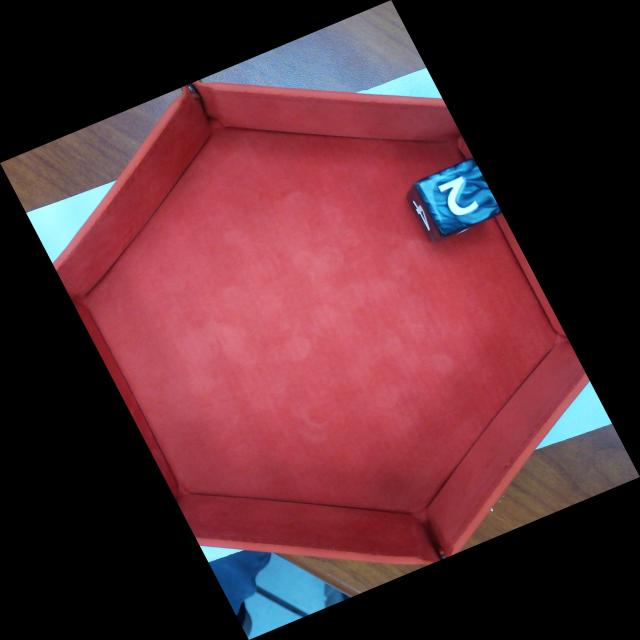dice: (424, 165, 503, 230)
